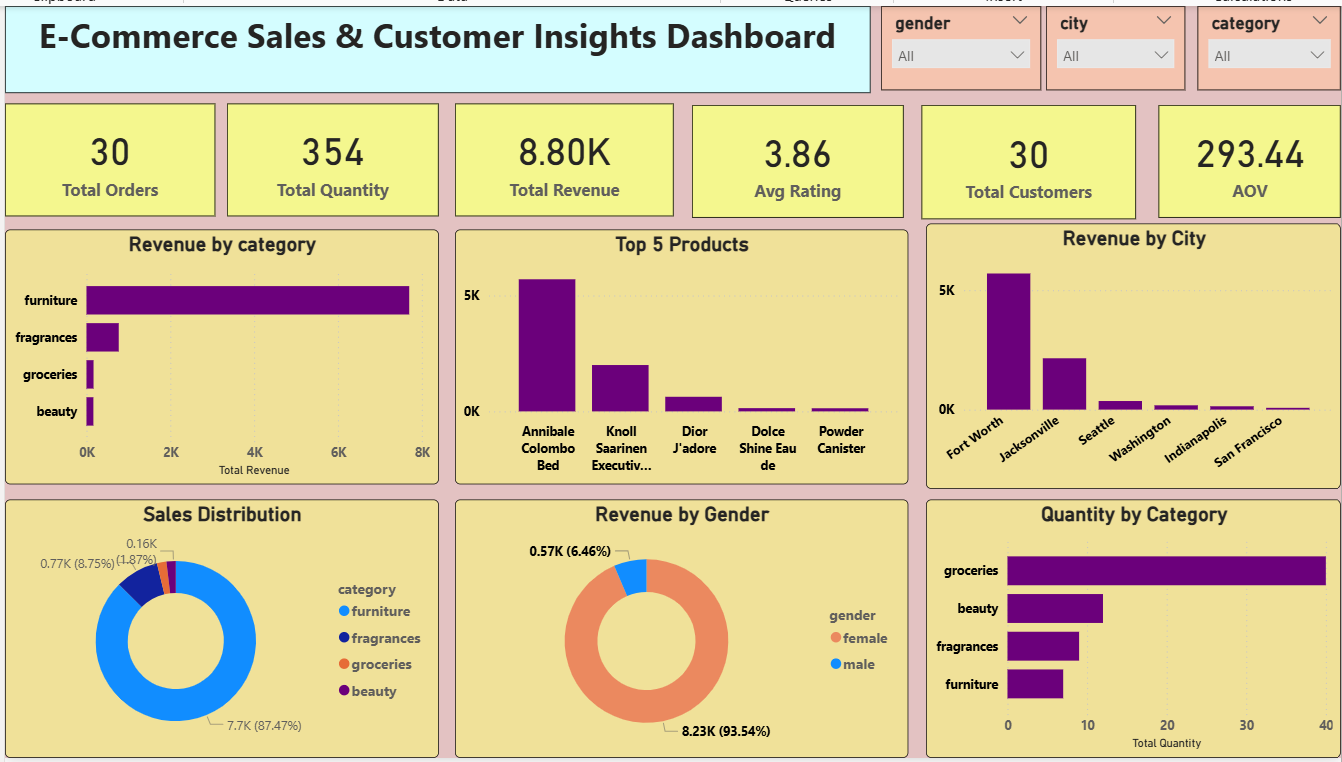

This screenshot's page, from the dashboard's own definition file:
{"tool":"powerbi","page":{"name":"Page 1","canvas":[1280,720],"ordinal":0},"visuals":[{"type":"card","fields":{"Values":["orders.Total Revenue"]},"box":[430.8,93.3,209.7,107.7],"z":0},{"type":"card","fields":{"Values":["orders.Total Orders"]},"box":[0,93.3,201,107.7],"z":1},{"type":"card","fields":{"Values":["orders.Total Customers"]},"box":[877.4,94.8,205.4,109.1],"z":2},{"type":"card","fields":{"Values":["orders.Total Quantity"]},"box":[212.5,93.3,202.5,107.7],"z":3},{"type":"card","fields":{"Values":["orders.AOV"]},"box":[1104.3,94.8,175.2,107.7],"z":4},{"type":"card","fields":{"Values":["orders.Avg Rating"]},"box":[657.7,94.8,202.5,107.7],"z":5},{"type":"textbox","box":[0,0,828.6,83.3],"z":6},{"type":"slicer","fields":{"Values":["products.category"]},"box":[1141.7,0,137.9,80.4],"z":7},{"type":"slicer","fields":{"Values":["users.city"]},"box":[996.6,0,133.6,80.4],"z":8},{"type":"slicer","fields":{"Values":["users.gender"]},"box":[838.7,0,153.7,80.4],"z":9},{"type":"clusteredBarChart","title":"Revenue by category","fields":{"Category":["products.category"],"Y":["orders.Total Revenue"]},"box":[0,214,415,244.1],"z":10},{"type":"clusteredColumnChart","title":"Top 5 Products","fields":{"Y":["orders.Total Revenue"],"Category":["products.title"]},"box":[430.8,214,433.7,244.1],"z":11},{"type":"clusteredColumnChart","title":"Revenue by City","fields":{"Y":["orders.Total Revenue"],"Category":["users.city"]},"box":[881.7,208.2,397.8,254.2],"z":12},{"type":"donutChart","title":"Sales Distribution","fields":{"Category":["products.category"],"Y":["orders.Total Revenue"]},"box":[0,472.5,415,247],"z":13},{"type":"donutChart","title":"Revenue by Gender","fields":{"Y":["orders.Total Revenue"],"Category":["users.gender"]},"box":[430.8,472.5,433.7,247],"z":14},{"type":"clusteredBarChart","title":"Quantity by Category","fields":{"Category":["products.category"],"Y":["orders.Total Quantity"]},"box":[881.7,472.5,397.8,247],"z":15}]}

Visuals, with their boxes on the page's 1280x720 design canvas (x1, y1, x2, y2). These are canvas units, not pixel positions in the 1342x762 screenshot, which may show the page scaled, cropped or inside an application window:
card - orders.Total Revenue: BBox(431, 93, 640, 201)
card - orders.Total Orders: BBox(0, 93, 201, 201)
card - orders.Total Customers: BBox(877, 95, 1083, 204)
card - orders.Total Quantity: BBox(212, 93, 415, 201)
card - orders.AOV: BBox(1104, 95, 1280, 202)
card - orders.Avg Rating: BBox(658, 95, 860, 202)
textbox: BBox(0, 0, 829, 83)
slicer - products.category: BBox(1142, 0, 1280, 80)
slicer - users.city: BBox(997, 0, 1130, 80)
slicer - users.gender: BBox(839, 0, 992, 80)
"Revenue by category" clusteredBarChart: BBox(0, 214, 415, 458)
"Top 5 Products" clusteredColumnChart: BBox(431, 214, 864, 458)
"Revenue by City" clusteredColumnChart: BBox(882, 208, 1280, 462)
"Sales Distribution" donutChart: BBox(0, 472, 415, 720)
"Revenue by Gender" donutChart: BBox(431, 472, 864, 720)
"Quantity by Category" clusteredBarChart: BBox(882, 472, 1280, 720)
